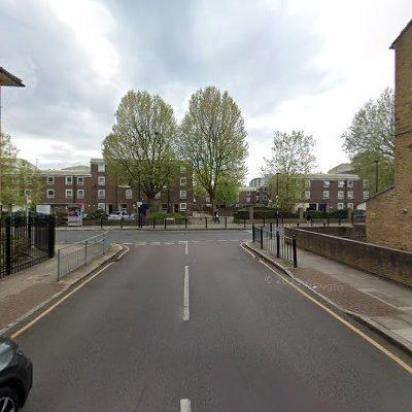moving-car: (0, 330, 34, 412)
stationary-car-offstreet: (108, 211, 128, 221)
